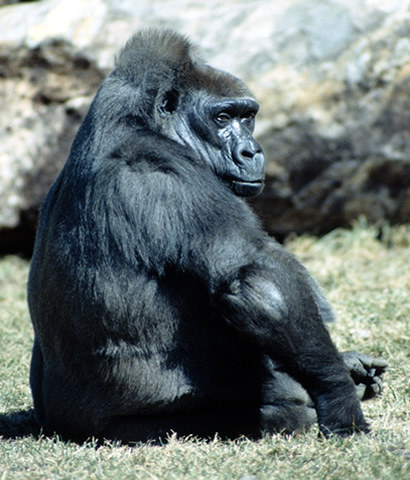Goriila: (37, 31, 365, 477)
